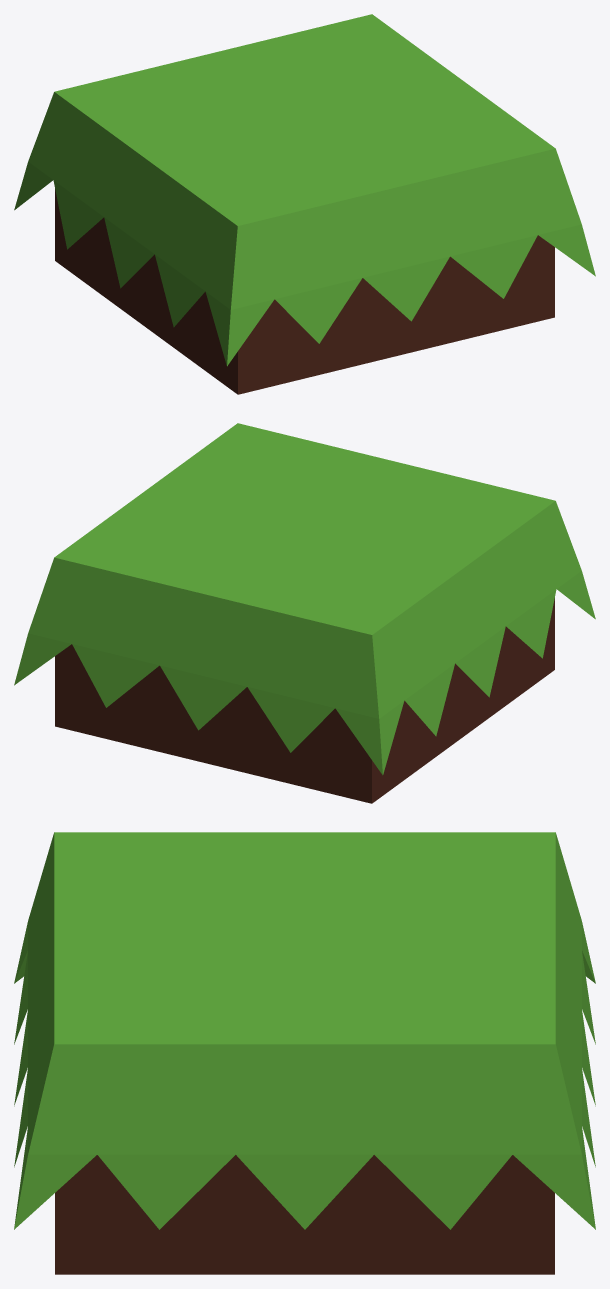
Rendered from GrassCubeHalf.glb.
The picture shows the model from 3 angles, top to bottom: view 1: azimuth 30°, elevation 25°; view 2: azimuth 150°, elevation 25°; view 3: azimuth 270°, elevation 25°; orthographic projection. The views are drawn at different scales.
Visible parts, largest first — view 1: DirtCubeHalf.001; view 2: DirtCubeHalf.001; view 3: DirtCubeHalf.001.
Part boxes in pixels (x1,y1,x2,y2): DirtCubeHalf.001: (14,14,595,394); DirtCubeHalf.001: (14,423,595,803); DirtCubeHalf.001: (14,832,595,1274).
Bounding box in the file's own units: 1.16 × 0.5095 × 1.16.
